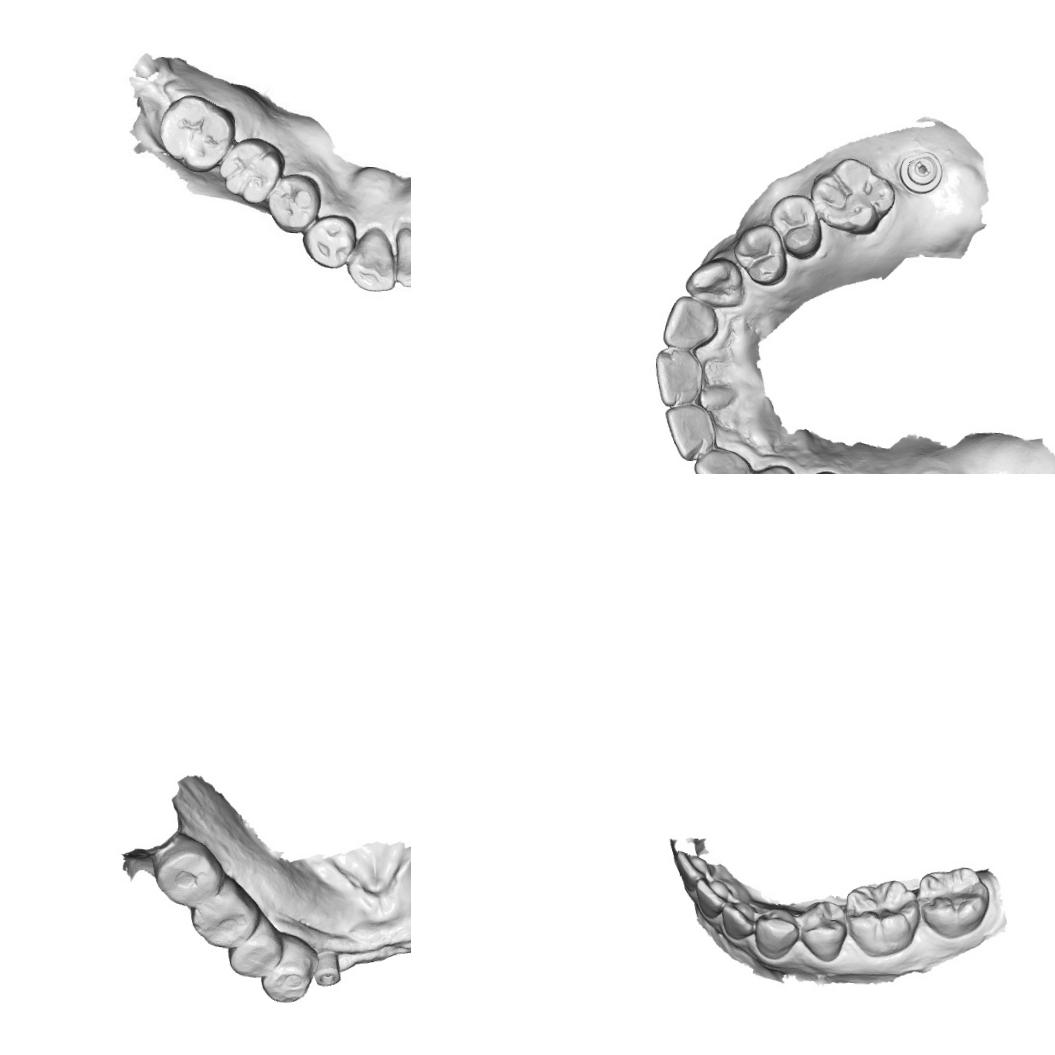canine: (682, 253, 748, 310), (347, 226, 398, 296), (717, 897, 759, 942), (736, 459, 806, 474)
implant: (312, 946, 342, 988)
implant_minus: (896, 148, 944, 196)
incisor: (660, 292, 721, 354), (651, 345, 708, 409), (661, 397, 713, 462), (689, 442, 750, 474), (692, 875, 734, 919), (671, 846, 718, 884), (390, 228, 411, 285)
molar: (807, 153, 899, 237), (151, 91, 237, 174), (842, 877, 923, 958), (148, 830, 225, 910), (914, 863, 992, 941), (187, 874, 263, 950), (214, 132, 291, 204)
premolar: (259, 167, 324, 238), (766, 190, 825, 262), (258, 932, 316, 1004), (730, 220, 790, 289), (300, 208, 356, 274), (228, 914, 284, 979), (796, 898, 849, 962), (751, 904, 800, 960)
